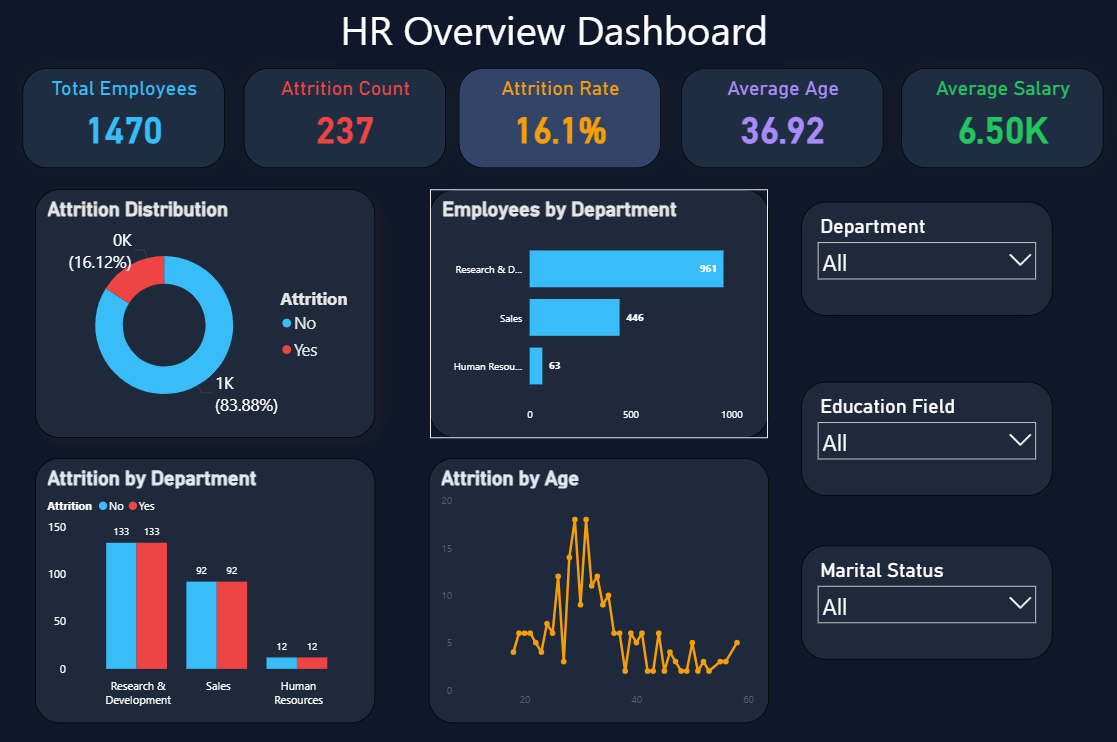

This screenshot's page, from the dashboard's own definition file:
{"tool":"powerbi","page":{"name":"Overview","canvas":[1350,900],"ordinal":0},"visuals":[{"type":"card","title":"Total Employees","fields":{"Values":["IBM.Total Employees"]},"box":[27.1,84.5,244.3,120.6],"z":0},{"type":"card","title":"Attrition Count","fields":{"Values":["IBM.Attrition Count"]},"box":[294.1,84.5,244.3,120.6],"z":1000},{"type":"card","title":"Attrition Rate","fields":{"Values":["IBM.Attrition Rate"]},"box":[553.5,84.5,244.3,120.6],"z":2000},{"type":"card","title":"Average Salary","fields":{"Values":["IBM.Avg Salary"]},"box":[1087.3,84.5,244.3,120.6],"z":3000},{"type":"card","title":"Average Age","fields":{"Values":["IBM.Avg Age"]},"box":[821.9,84.5,244.3,120.6],"z":4000},{"type":"donutChart","title":"Attrition Distribution","fields":{"Category":["IBM.Attrition"],"Y":["IBM.Employee Count"]},"box":[42.2,230.7,410.2,300.1],"z":5000},{"type":"clusteredBarChart","title":"Employees by Department","fields":{"Category":["IBM.Department"],"Y":["IBM.Total Employees"]},"box":[518.8,230.7,408.7,300.1],"z":6000},{"type":"clusteredColumnChart","title":"Attrition by Department","fields":{"Category":["IBM.Department"],"Y":["IBM.Attrition Count"],"Series":["IBM.Attrition"]},"box":[42.2,555,410.2,319.7],"z":7000},{"type":"lineChart","title":"Attrition by Age","fields":{"Category":["IBM.Age"],"Y":["IBM.Attrition Count"]},"box":[517.3,555,410.2,319.7],"z":8000},{"type":"slicer","fields":{"Values":["IBM.Department"]},"box":[966.7,245.8,303.1,137.2],"z":9000},{"type":"slicer","fields":{"Values":["IBM.EducationField"]},"box":[966.7,463,303.1,137.2],"z":10000},{"type":"slicer","fields":{"Values":["IBM.MaritalStatus"]},"box":[966.7,660.5,303.1,137.2],"z":11000},{"type":"textbox","box":[405.7,0,539.9,84.5],"z":11001}]}

Visuals, with their boxes in screenshot pixels (x1, y1, x2, y2), scaled from the page's 1350x900 canvas onto the 1117x742 screenshot:
"Total Employees" card: [x1=22, y1=70, x2=225, y2=169]
"Attrition Count" card: [x1=243, y1=70, x2=445, y2=169]
"Attrition Rate" card: [x1=458, y1=70, x2=660, y2=169]
"Average Salary" card: [x1=900, y1=70, x2=1102, y2=169]
"Average Age" card: [x1=680, y1=70, x2=882, y2=169]
"Attrition Distribution" donutChart: [x1=35, y1=190, x2=374, y2=438]
"Employees by Department" clusteredBarChart: [x1=429, y1=190, x2=767, y2=438]
"Attrition by Department" clusteredColumnChart: [x1=35, y1=458, x2=374, y2=721]
"Attrition by Age" lineChart: [x1=428, y1=458, x2=767, y2=721]
slicer - IBM.Department: [x1=800, y1=203, x2=1051, y2=316]
slicer - IBM.EducationField: [x1=800, y1=382, x2=1051, y2=495]
slicer - IBM.MaritalStatus: [x1=800, y1=545, x2=1051, y2=658]
textbox: [x1=336, y1=0, x2=782, y2=70]
